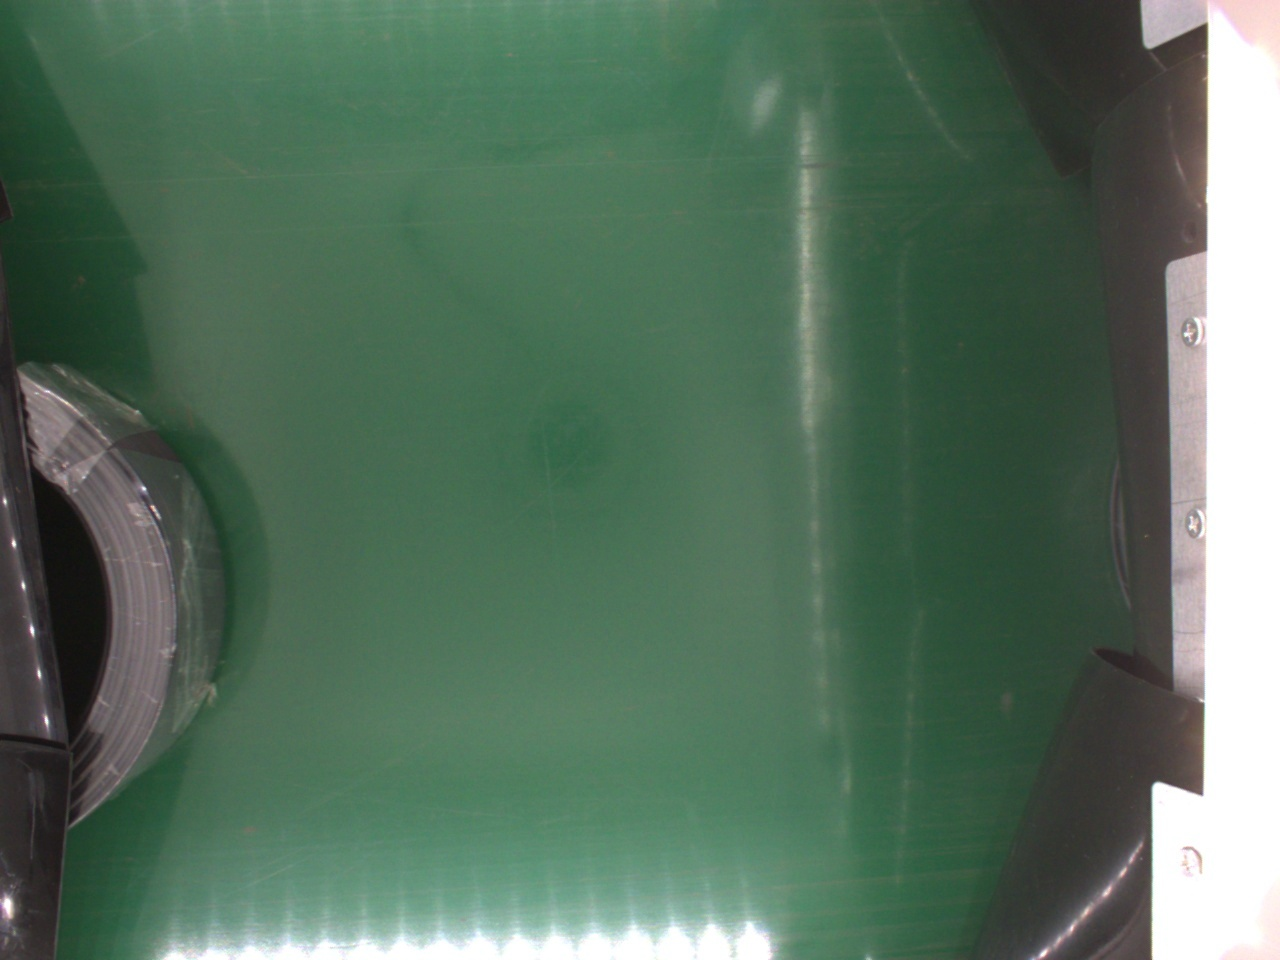black: (19, 354, 229, 827)
